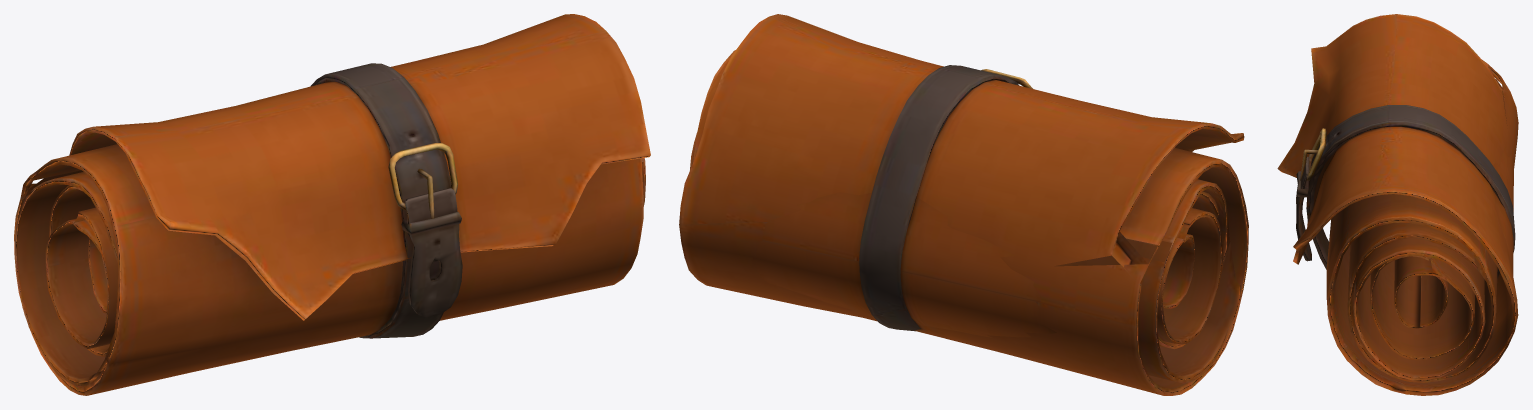
The model's file is leather.glb.
3 views of the same model, side by side, from view 1: azimuth 30°, elevation 25°; view 2: azimuth 150°, elevation 25°; view 3: azimuth 270°, elevation 25° (orthographic). The views are drawn at different scales.
Parts seen in each view (by area): view 1: leather; view 2: leather; view 3: leather.
Part boxes in pixels (x1,y1,x2,y2): leather: [14, 14, 650, 395]; leather: [679, 14, 1248, 395]; leather: [1277, 14, 1518, 395].
Size of the model in its own units: 0.35 by 0.1712 by 0.183.
1 material, 1 textured.
